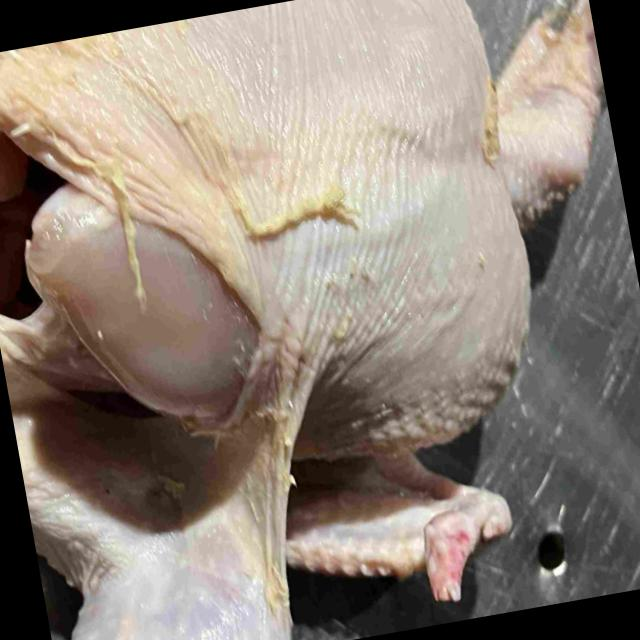breast: (23, 0, 530, 455)
leg: (25, 445, 291, 640)
neck: (499, 0, 604, 227)
wing: (288, 454, 510, 605)
